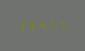eight: (27, 19, 35, 30)
four: (36, 19, 44, 31)
seven: (45, 20, 53, 31), (54, 20, 62, 31)
two: (18, 19, 26, 30)
